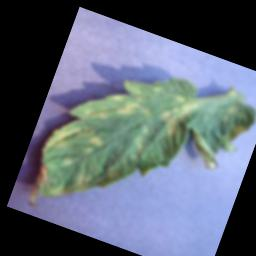Leaf_Mold: (154, 87, 202, 143), (105, 85, 157, 127), (43, 109, 85, 157), (84, 103, 112, 125), (87, 133, 107, 149)
